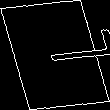L_W: (9, 35, 101, 75)
